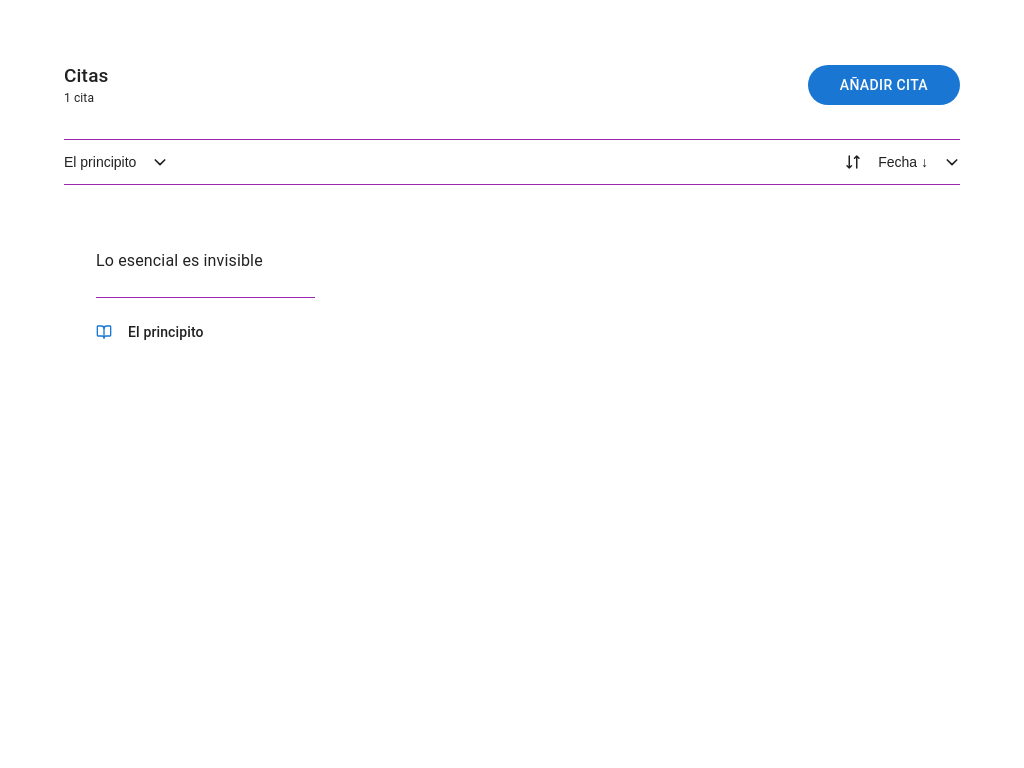
it: Given the quotes page › When the user clears the filter › Then every quote is back
The width and height of the screenshot is (1024, 768).
Click the button "El principito": [116, 162] box [48,140,184,184]
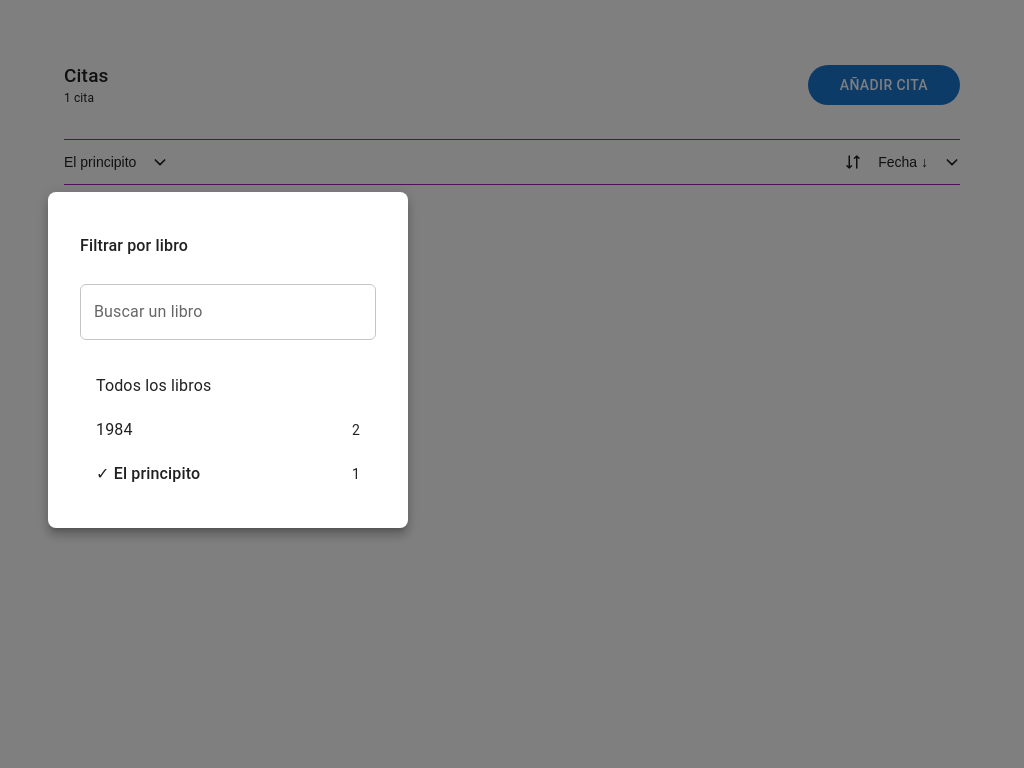
Click the button "Todos los libros": [154, 386] box [80,364,376,408]
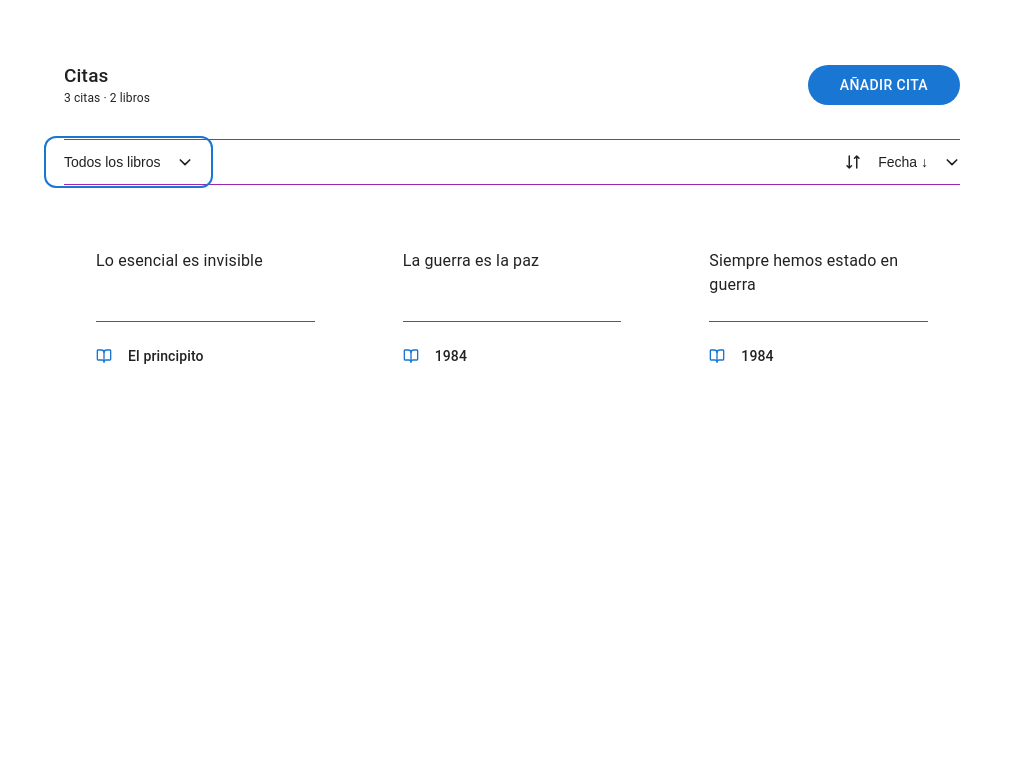
Check: the text "La guerra es la paz" is shown, box [403,251,539,270]
